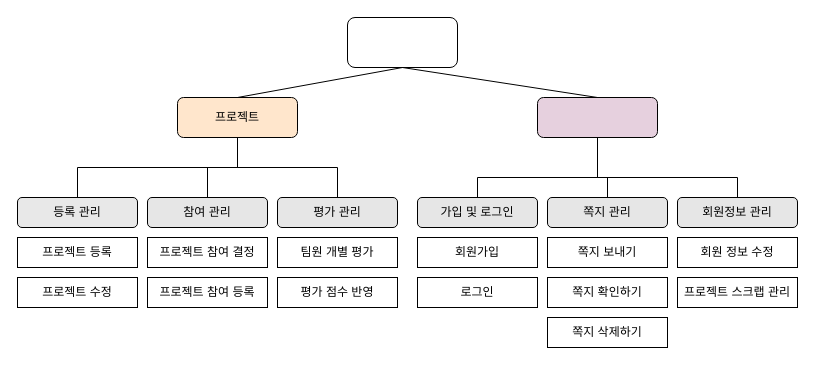
This 815x365 diagram has some shape labels left out. The centre of each missing label's shape, as x and y in pixels:
사용자: (597,117)
프로젝트 동료 찾기: (402,42)
